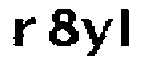8: (48, 7, 78, 48)
l: (116, 6, 135, 51)
r: (12, 16, 37, 50)
y: (81, 15, 114, 60)
